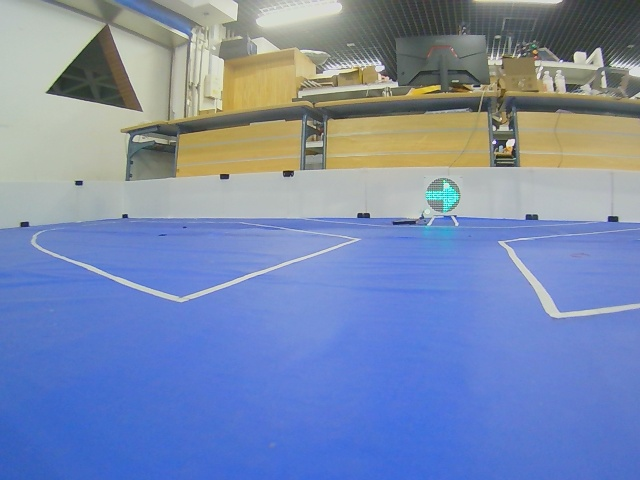right_green: (425, 178, 461, 214)
